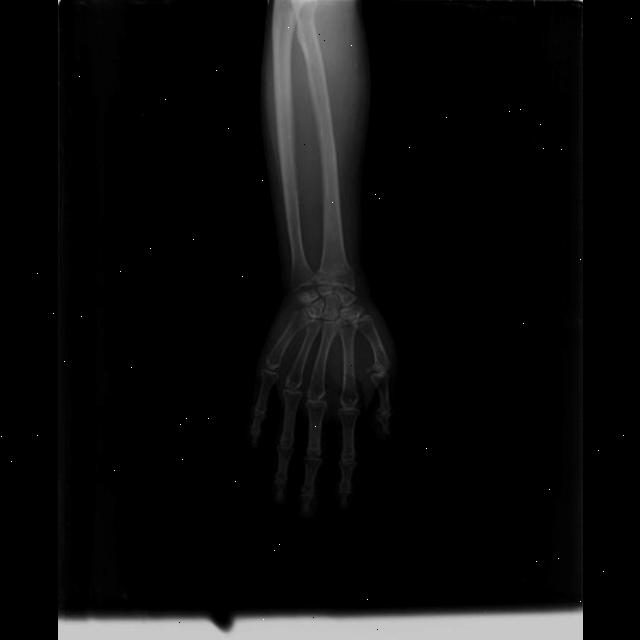Fracture: (316, 256, 355, 285)
